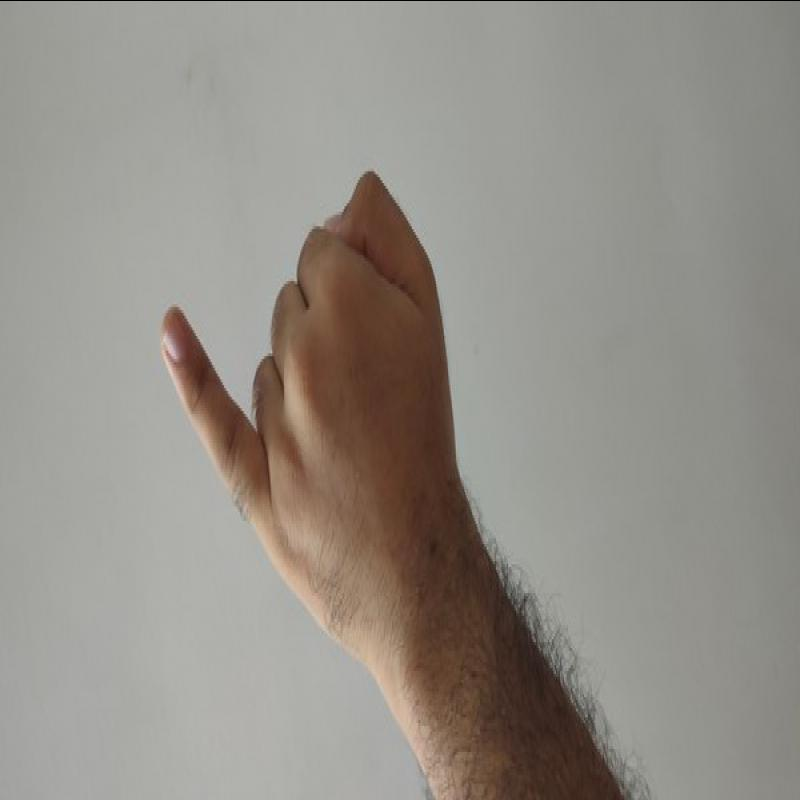Kartharee Mukham: (145, 157, 479, 657)
